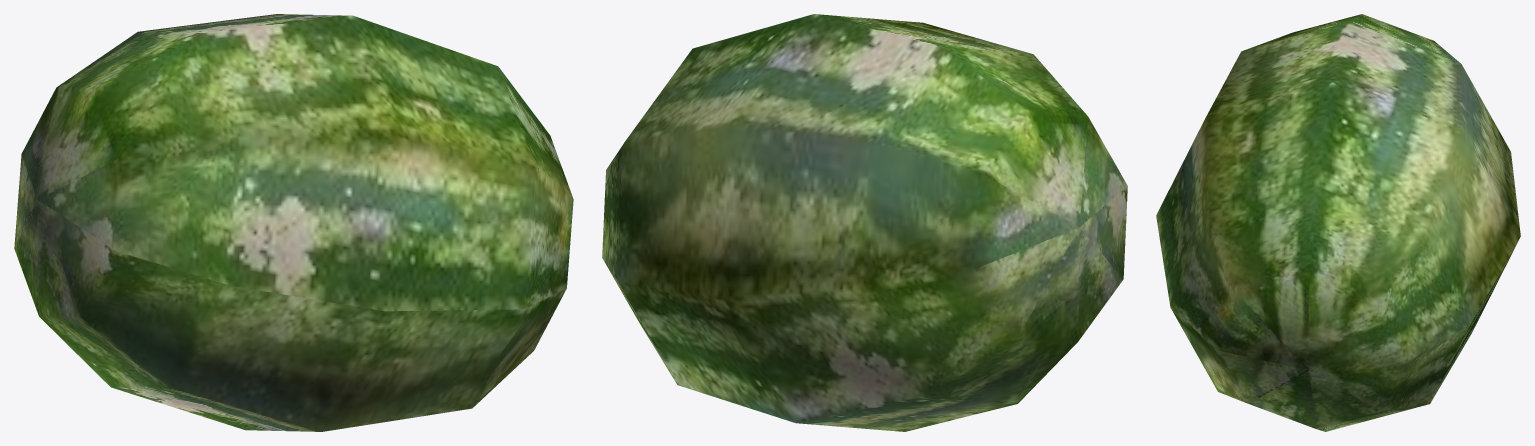
The picture shows the model from 3 angles, left to right: view 1: azimuth 30°, elevation 25°; view 2: azimuth 150°, elevation 25°; view 3: azimuth 270°, elevation 25°; orthographic projection. The views are drawn at different scales.
Parts seen in each view (by area): view 1: Watermelon003_Foods_0; view 2: Watermelon003_Foods_0; view 3: Watermelon003_Foods_0.
Boxes of the visible parts, box(x1,y1,x2,y2) form: Watermelon003_Foods_0: box(14, 14, 573, 431); Watermelon003_Foods_0: box(602, 14, 1127, 431); Watermelon003_Foods_0: box(1156, 14, 1520, 431).
Size of the model in its own units: 0.4629 by 0.3786 by 0.3752.
Materials: 1 (1 with a texture image).
